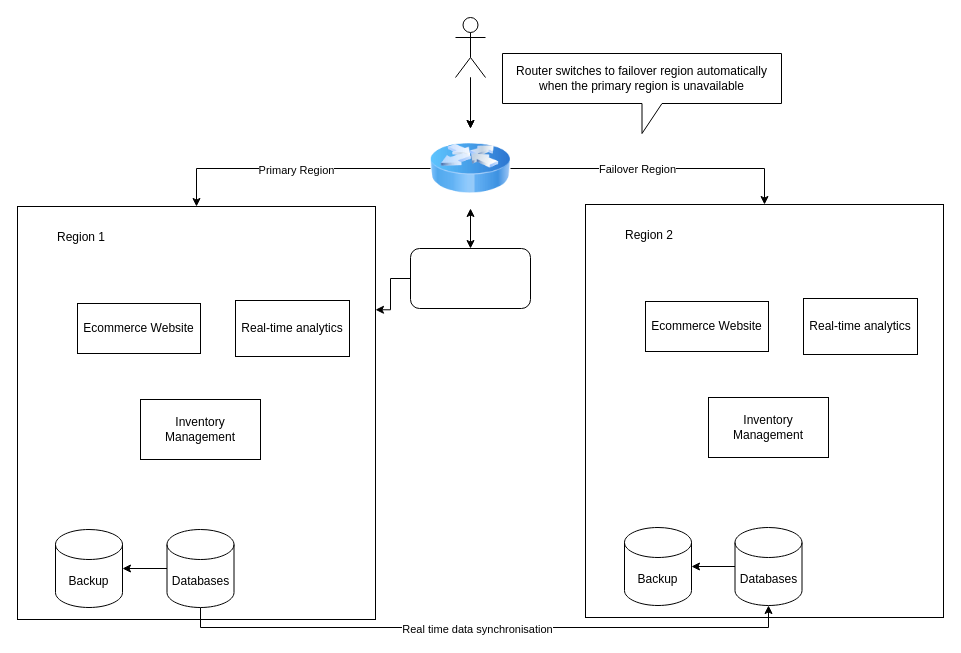
Some shapes in this 961 by 653 pixel diagram are drawn without their labels. The centre of each missing label's shape, as x and y in pixels:
"Health check Primary region" belongs at pixel 470 278.
"User" belongs at pixel 470 47.
